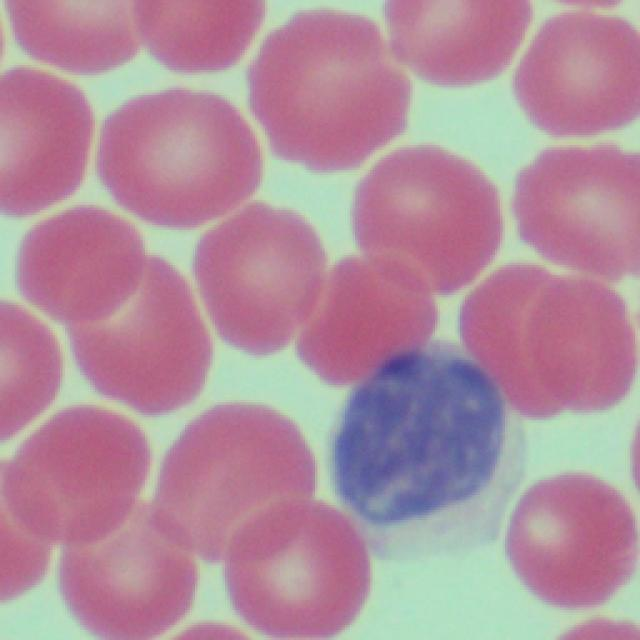RBC: (22, 395, 150, 620), (470, 255, 640, 415), (245, 5, 395, 181), (350, 134, 497, 309), (91, 76, 250, 237), (65, 248, 204, 421), (162, 396, 300, 564), (193, 197, 329, 358), (220, 493, 372, 632), (52, 494, 192, 640), (510, 137, 638, 296), (496, 464, 636, 609), (510, 8, 638, 144), (295, 257, 447, 370), (14, 208, 144, 334), (0, 64, 93, 230), (374, 0, 527, 89), (3, 0, 148, 77), (121, 0, 264, 74), (0, 298, 50, 461)
WBC: (328, 348, 506, 538)
